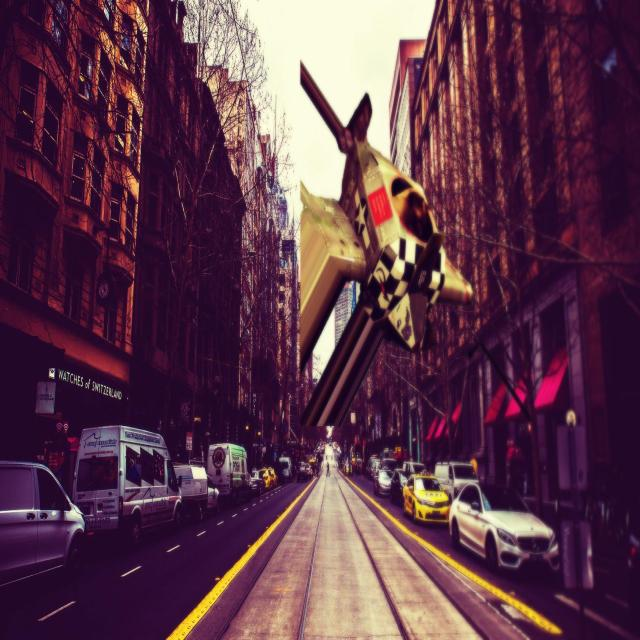airplane: (297, 58, 474, 430)
